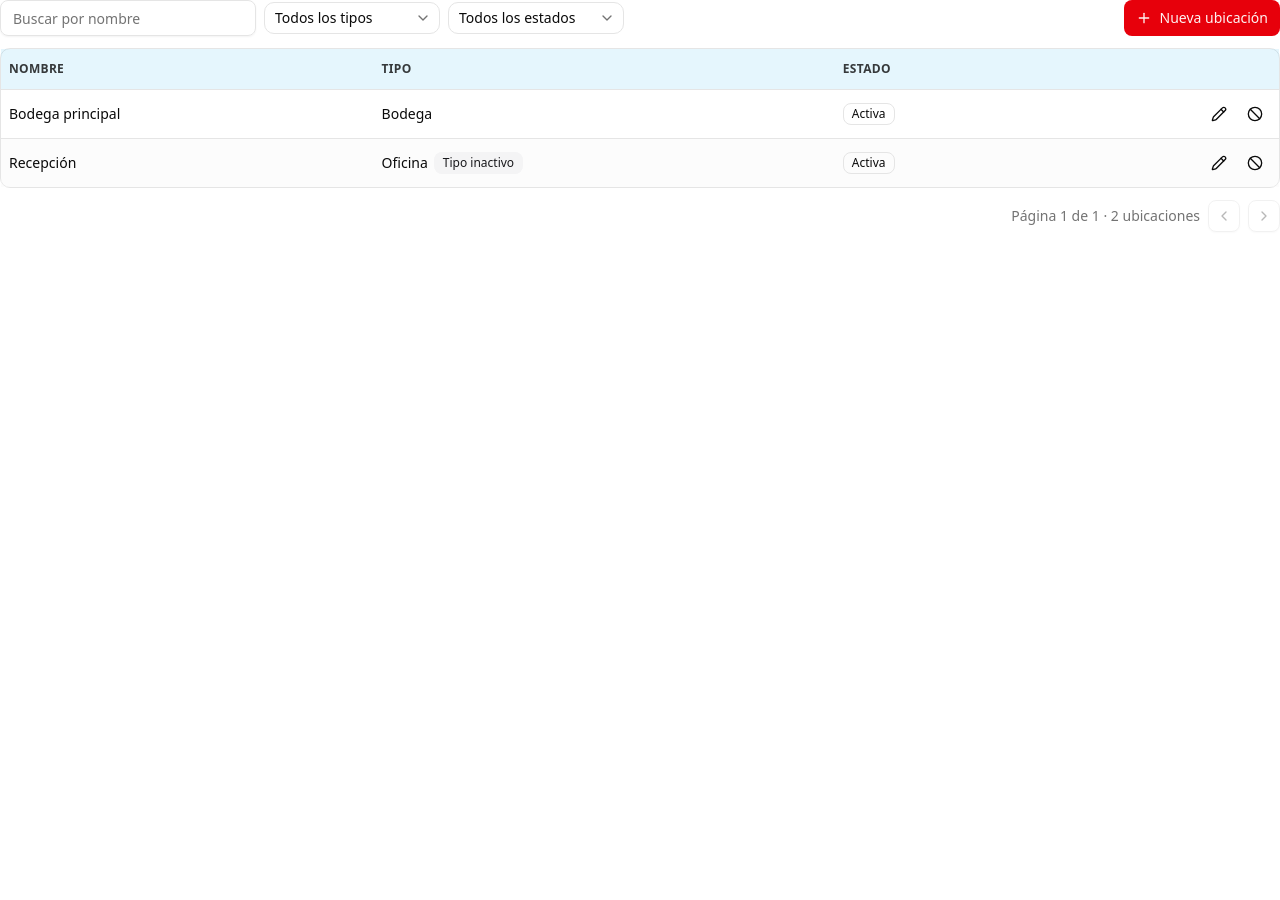
LocationsTab (US3, FR-004, RN-002) › sin tipos de ubicación activos avisa en lugar del formulario (US3 escenario 1)
Expected: the row "Recepción Oficina Tipo inactivo Activa" is shown, [1,138,1279,186]
Click the button "Nueva ubicación": [1202, 18] box [1124,0,1279,36]
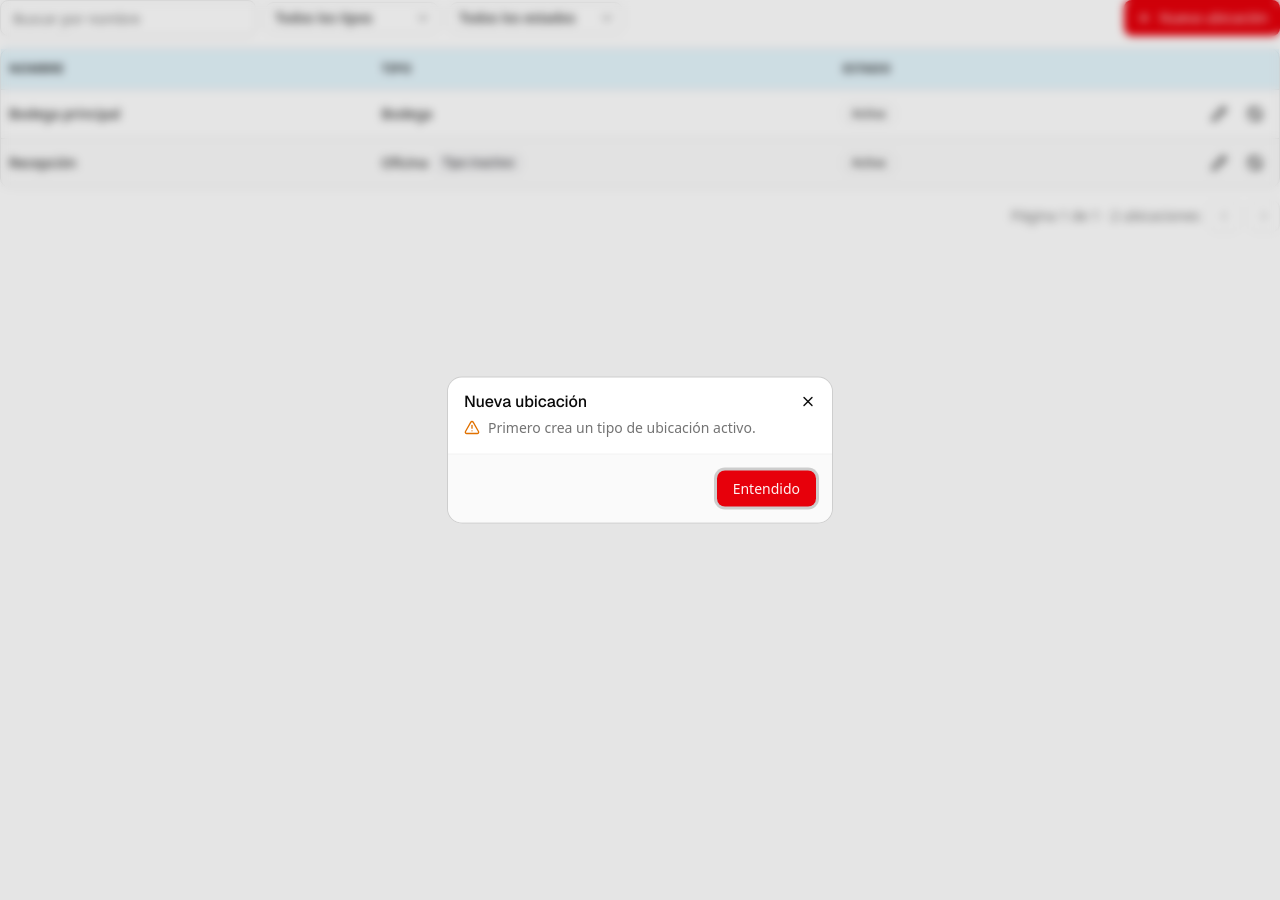
Expected: the text "Primero crea un tipo de ubicación activo." is shown, [488,418,756,438]
